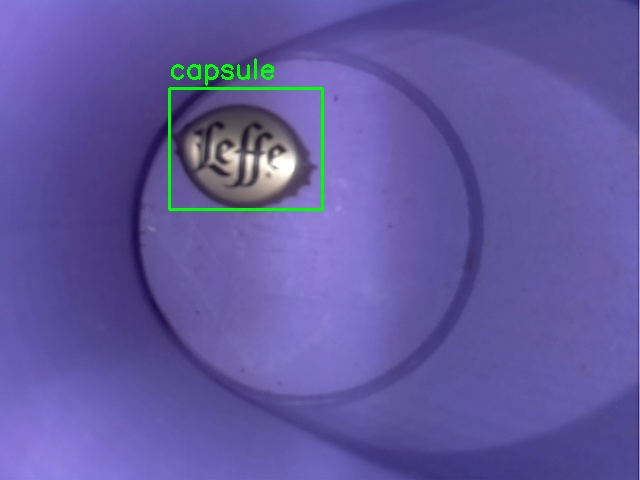capsule: (169, 88, 322, 209)
